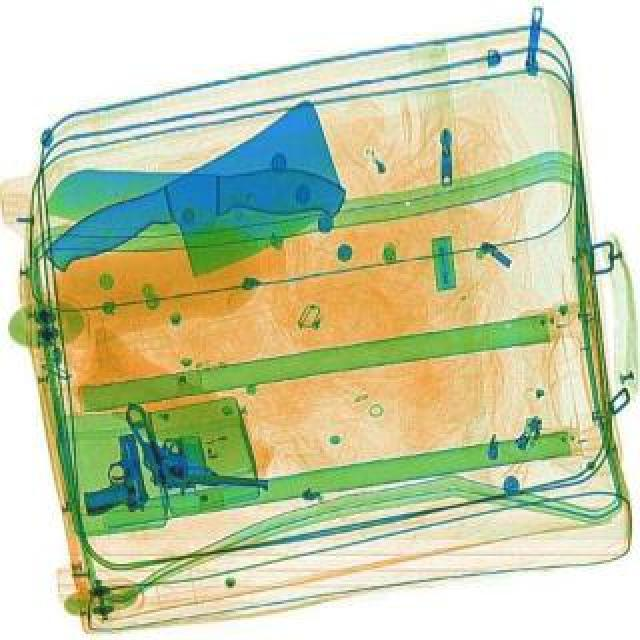gun: (90, 398, 282, 530), (68, 430, 160, 520)
knife: (38, 88, 374, 346)
